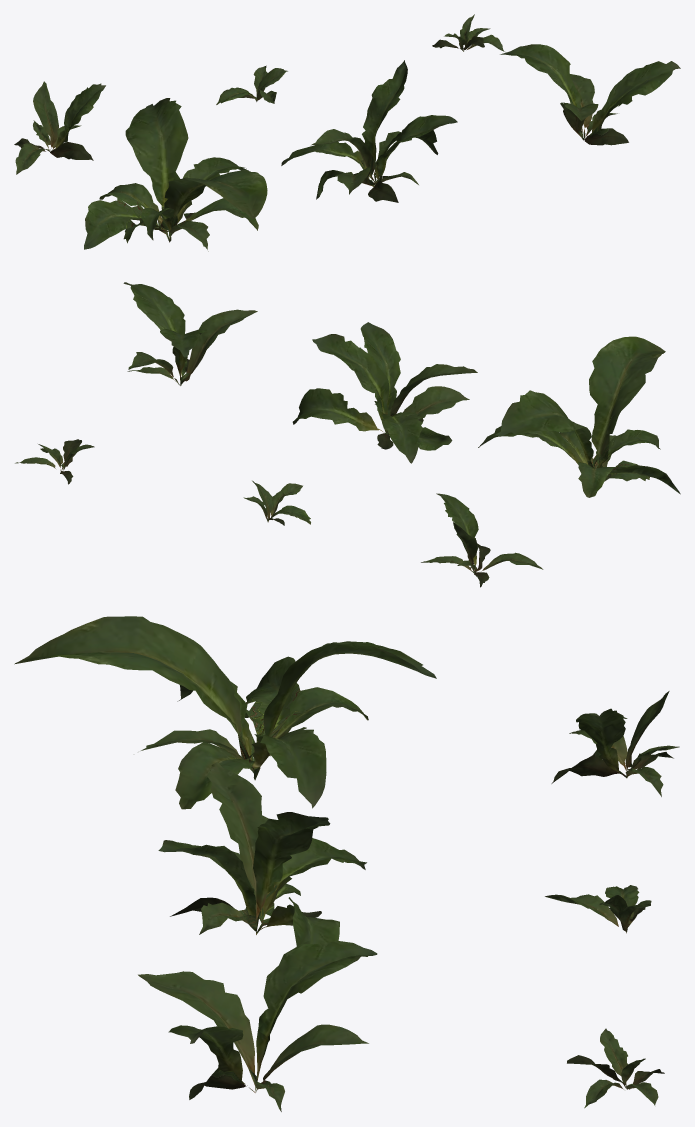
File: anthurium_botany_01_lod1.glb
3 views of the same model, one above another, from view 1: azimuth 30°, elevation 25°; view 2: azimuth 150°, elevation 25°; view 3: azimuth 270°, elevation 25° (orthographic). The views are drawn at different scales.
Parts seen in each view (by area): view 1: anthurium_botany_01_a, anthurium_botany_01_b, anthurium_botany_01_c, anthurium_botany_04_d, anthurium_botany_05_e, anthurium_botany_06_f; view 2: anthurium_botany_01_a, anthurium_botany_01_b, anthurium_botany_01_c, anthurium_botany_04_d, anthurium_botany_05_e, anthurium_botany_06_f; view 3: anthurium_botany_01_a, anthurium_botany_01_b, anthurium_botany_01_c, anthurium_botany_04_d, anthurium_botany_06_f, anthurium_botany_05_e.
Boxes of the visible parts, x1,y1,x2,y2 form: anthurium_botany_01_a: [84, 98, 267, 251]; anthurium_botany_01_b: [281, 60, 457, 202]; anthurium_botany_01_c: [500, 44, 680, 145]; anthurium_botany_04_d: [14, 81, 105, 174]; anthurium_botany_05_e: [216, 65, 287, 104]; anthurium_botany_06_f: [432, 14, 504, 51]; anthurium_botany_01_a: [478, 336, 680, 497]; anthurium_botany_01_b: [292, 322, 477, 463]; anthurium_botany_01_c: [123, 282, 257, 385]; anthurium_botany_04_d: [421, 493, 543, 587]; anthurium_botany_05_e: [243, 480, 310, 525]; anthurium_botany_06_f: [15, 439, 94, 484]; anthurium_botany_01_a: [14, 616, 436, 809]; anthurium_botany_01_b: [158, 762, 366, 946]; anthurium_botany_01_c: [138, 940, 377, 1111]; anthurium_botany_04_d: [551, 691, 679, 796]; anthurium_botany_06_f: [567, 1028, 664, 1108]; anthurium_botany_05_e: [545, 885, 651, 933].
Size of the model in its own units: 2.79 by 0.4981 by 1.8.
1 material, 1 textured.
